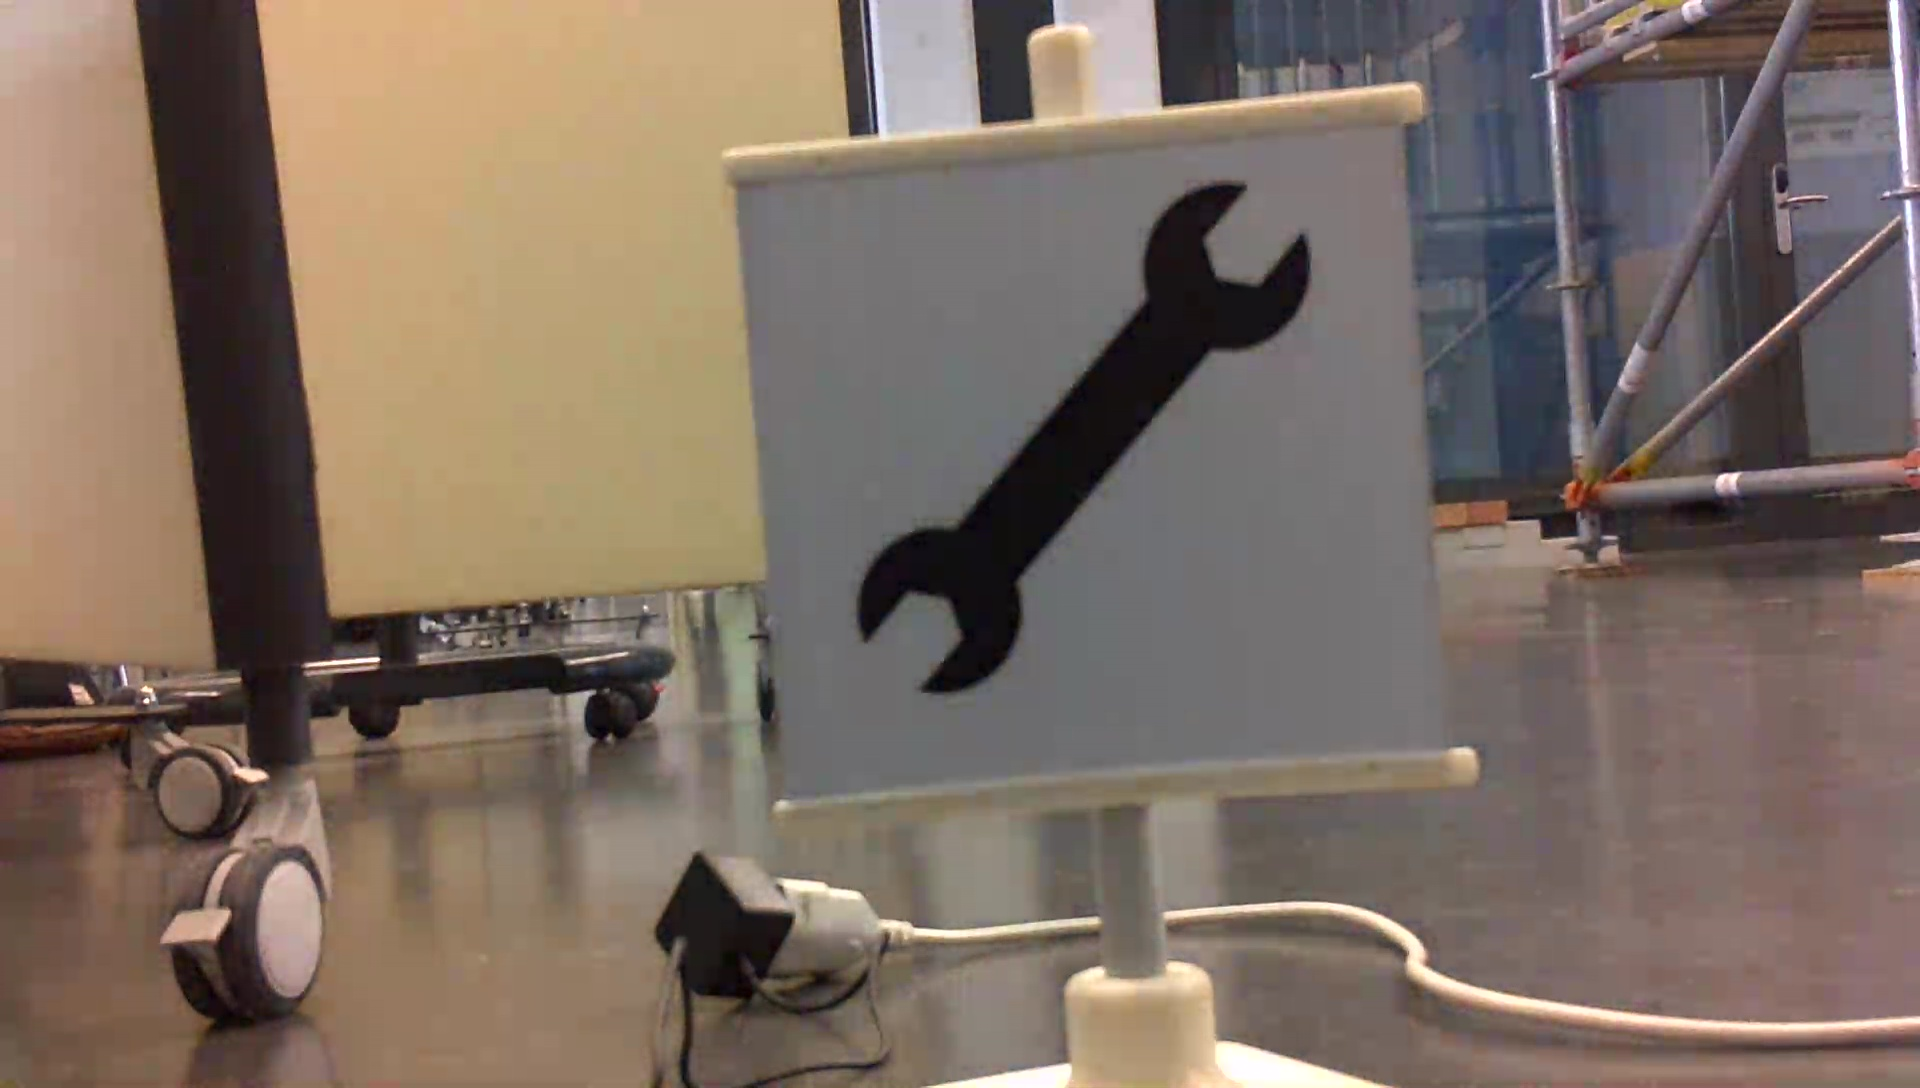wrench: (837, 175, 1352, 715)
